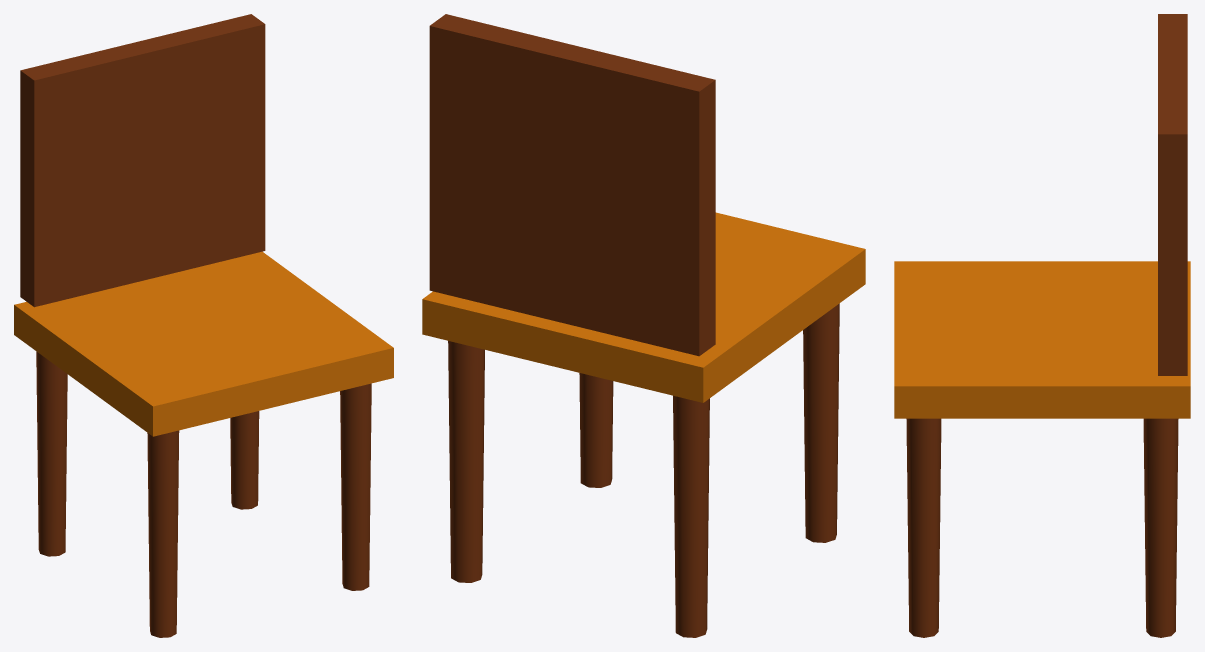
The model's file is interior_chair_01.glb.
3 views of the same model, side by side, from view 1: azimuth 30°, elevation 25°; view 2: azimuth 150°, elevation 25°; view 3: azimuth 270°, elevation 25° (orthographic). The views are drawn at different scales.
Visible parts, largest first — view 1: interior_chair_01; view 2: interior_chair_01; view 3: interior_chair_01.
Boxes of the visible parts, bbox=[...] form: interior_chair_01: bbox=[14, 14, 393, 637]; interior_chair_01: bbox=[422, 14, 865, 637]; interior_chair_01: bbox=[894, 14, 1190, 637].
Bounding box in the file's own units: 0.5 × 0.945 × 0.5.
